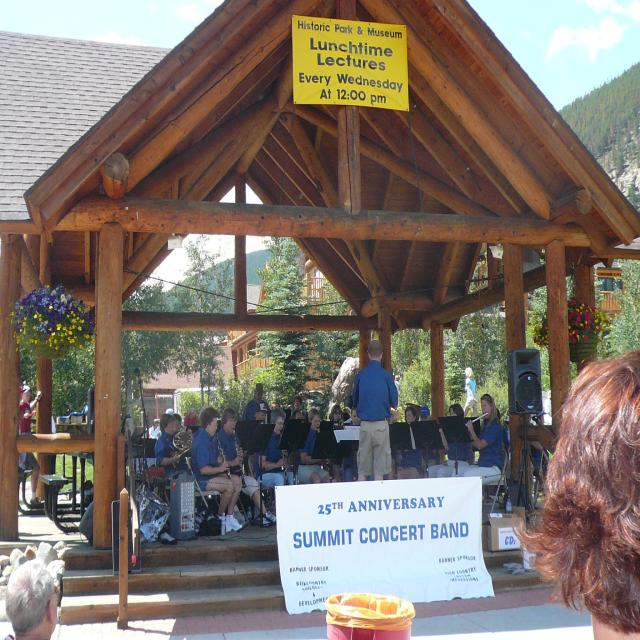clarinet: (211, 432, 237, 493), (229, 428, 249, 489), (316, 427, 336, 480), (277, 429, 290, 486)
